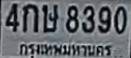0: (113, 5, 126, 33)
3: (81, 5, 94, 32)
4: (5, 2, 18, 31)
8: (65, 5, 78, 32)
9: (97, 5, 110, 32)
A01: (22, 3, 38, 32)
A39: (42, 3, 58, 32)
BKK: (16, 41, 112, 58)
